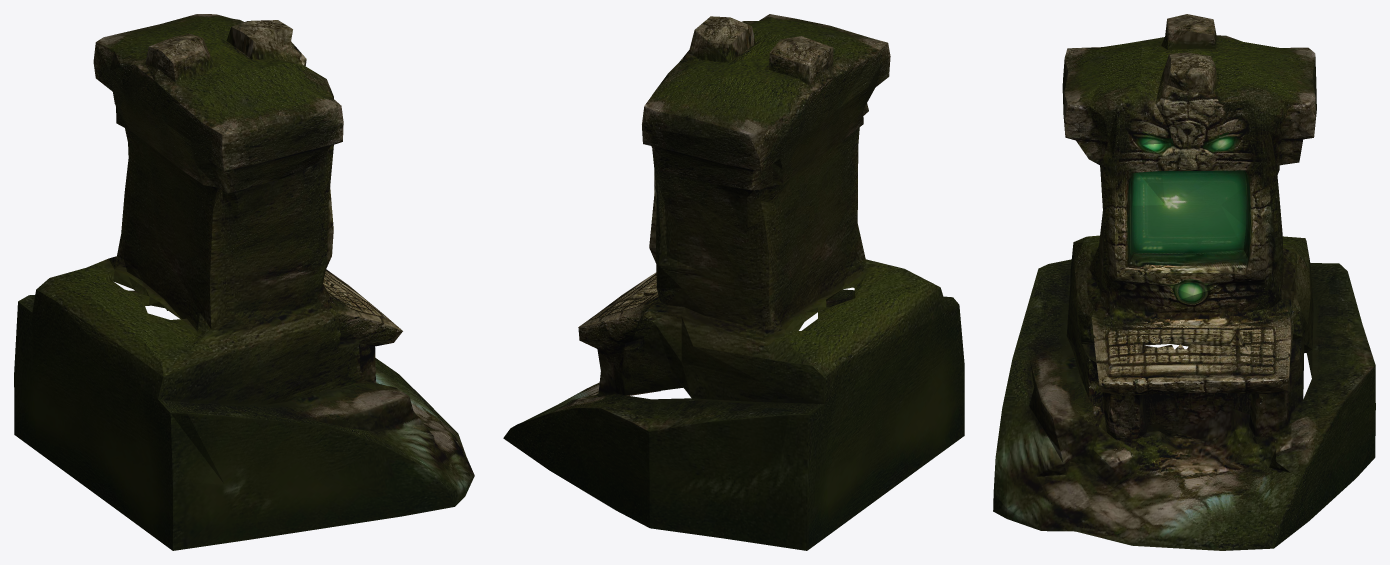
Rendered from ancient+jungle+computer+3d+model.glb.
3 renders of one model, left to right at view 1: azimuth 30°, elevation 25°; view 2: azimuth 150°, elevation 25°; view 3: azimuth 270°, elevation 25°, orthographic. The views are drawn at different scales.
Visible parts, largest first — view 1: tripo_node_28b2caa2-c2aa-49d4-9948-a0c6e96eefd5; view 2: tripo_node_28b2caa2-c2aa-49d4-9948-a0c6e96eefd5; view 3: tripo_node_28b2caa2-c2aa-49d4-9948-a0c6e96eefd5.
Part boxes in pixels (<box>): tripo_node_28b2caa2-c2aa-49d4-9948-a0c6e96eefd5: <box>14,14,474,550</box>; tripo_node_28b2caa2-c2aa-49d4-9948-a0c6e96eefd5: <box>503,14,964,550</box>; tripo_node_28b2caa2-c2aa-49d4-9948-a0c6e96eefd5: <box>993,14,1375,550</box>.
Bounding box in the file's own units: 0.8275 × 0.9924 × 0.8353.
1 material, 1 textured.
